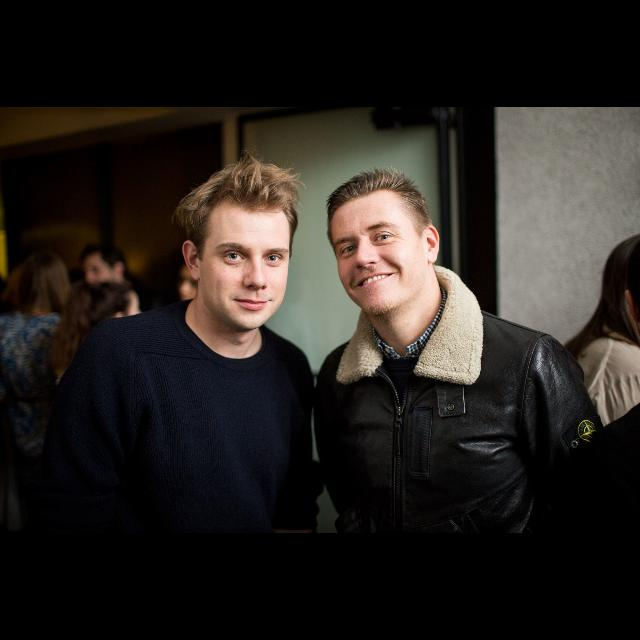head: (182, 169, 296, 335), (328, 182, 442, 318), (88, 279, 144, 339), (16, 253, 68, 310), (84, 246, 128, 292)
